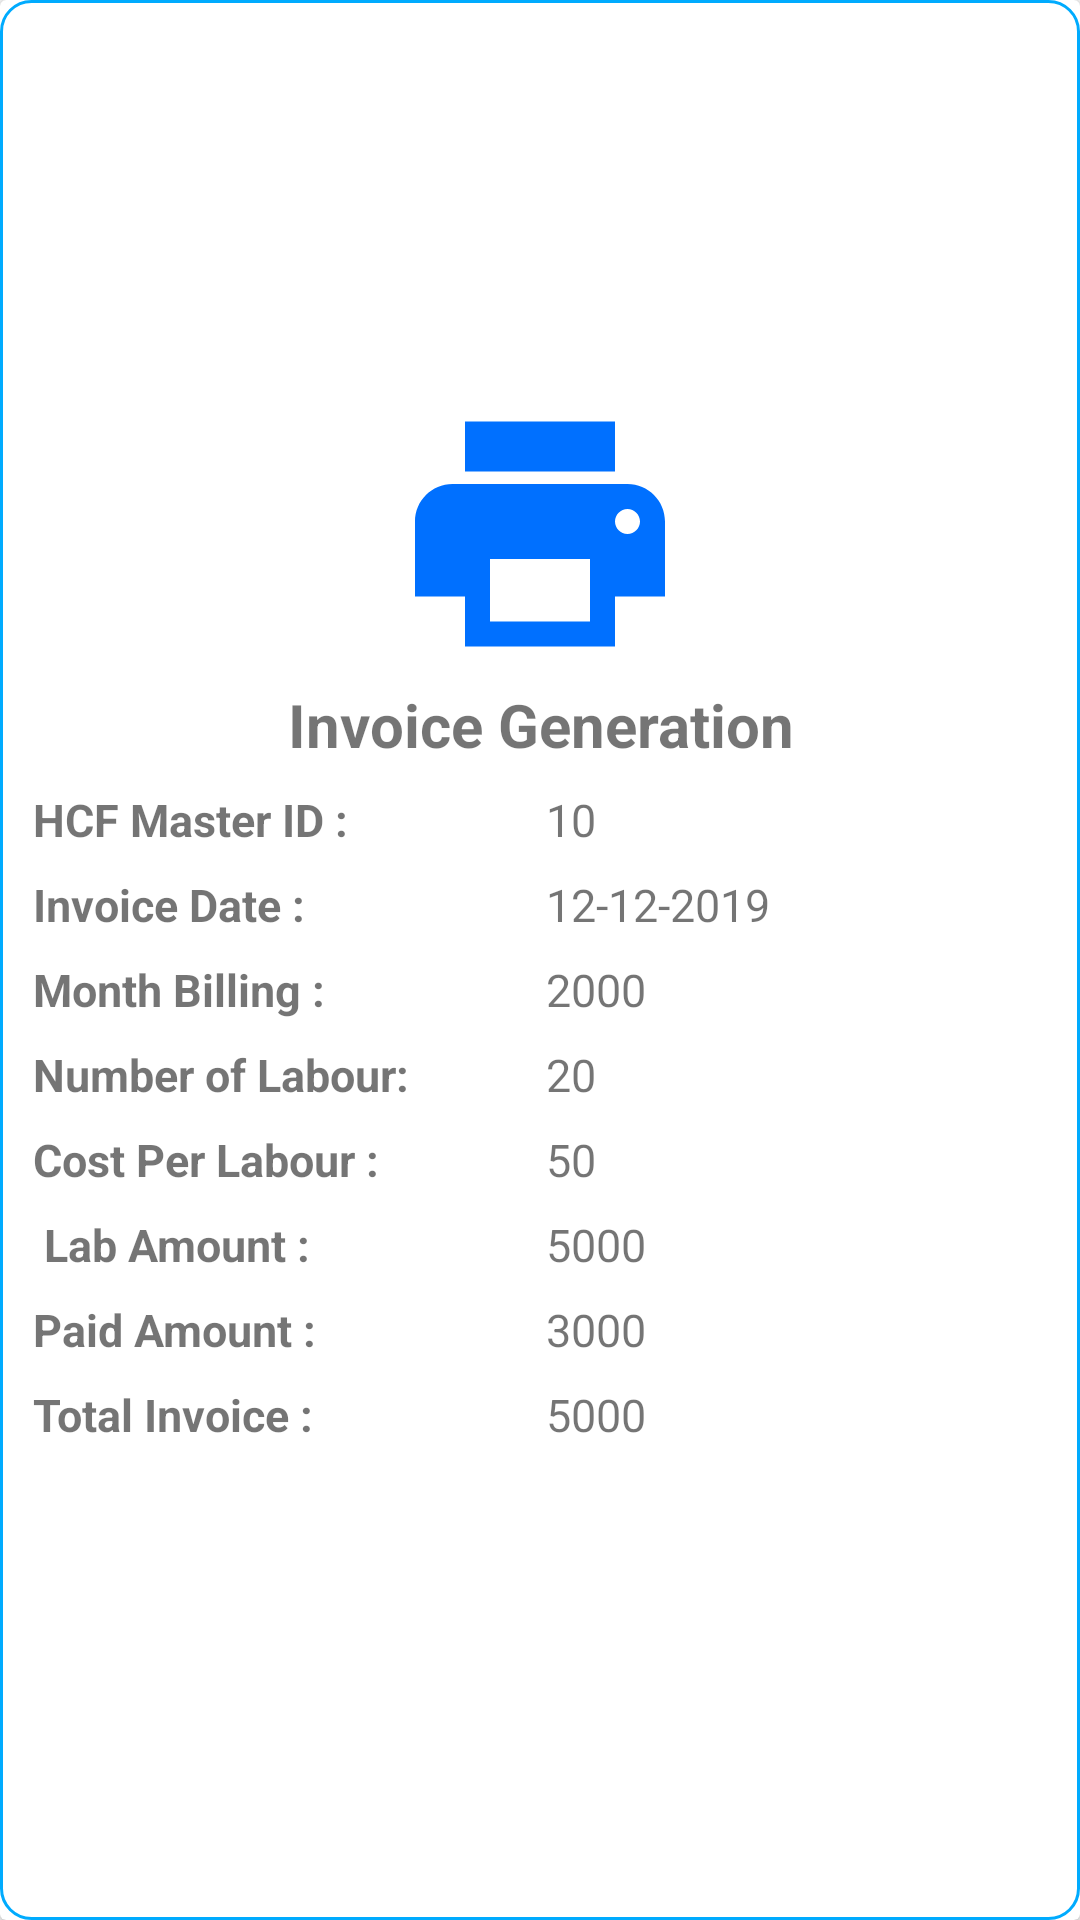

Where to tap for icons on this 1080px×1920px app screen, as (x=x, y=y):
print: (x=540, y=534)
